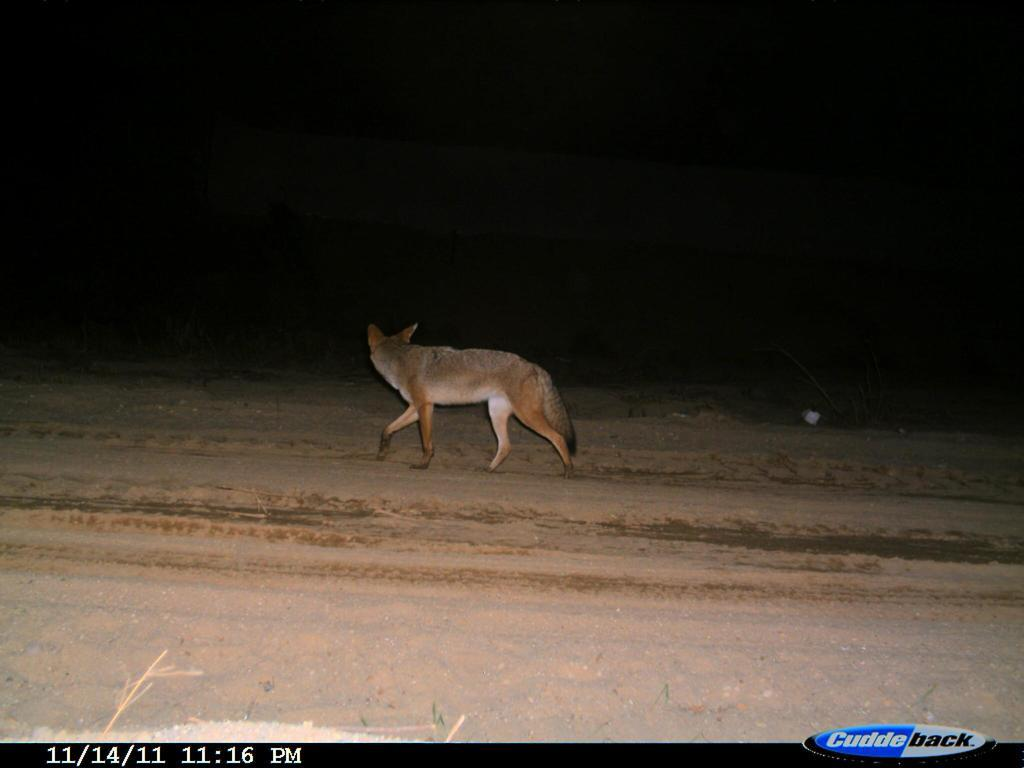coyote: (356, 315, 583, 487)
